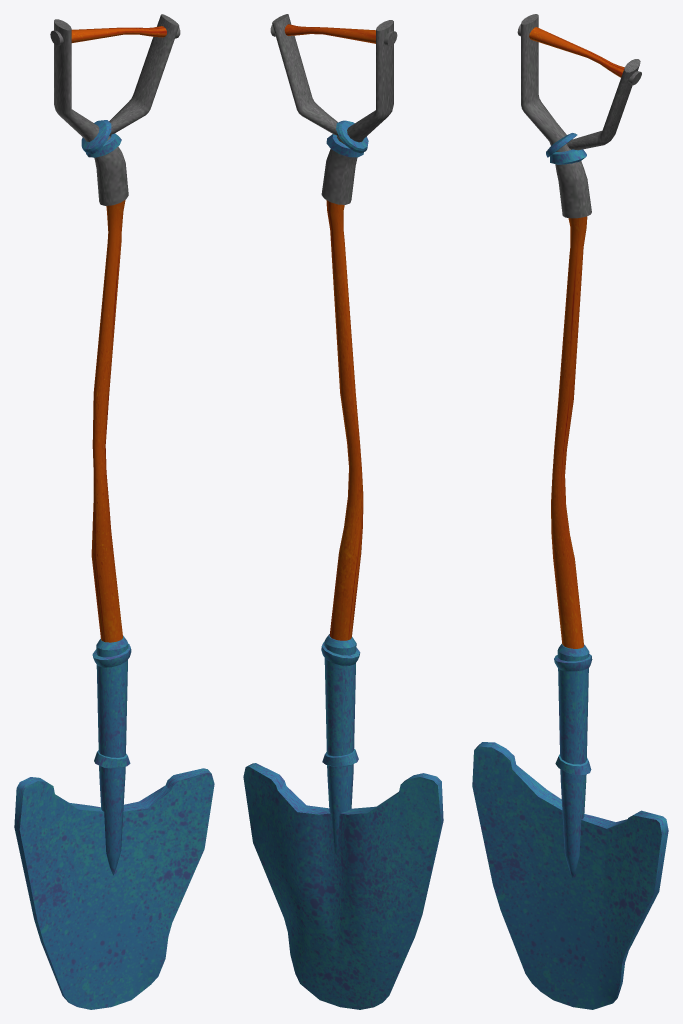
Rendered from shovel.fbx.
3 views of the same model, side by side, from view 1: azimuth 30°, elevation 25°; view 2: azimuth 150°, elevation 25°; view 3: azimuth 330°, elevation 25° (orthographic).
Visible parts, largest first — view 1: Object_3, Object_5, Object_4, Object_2; view 2: Object_3, Object_5, Object_4, Object_2; view 3: Object_3, Object_5, Object_4, Object_2.
Boxes of the visible parts, bbox=[...] form: Object_3: bbox=[14, 635, 214, 1009]; Object_5: bbox=[71, 26, 166, 642]; Object_4: bbox=[50, 14, 180, 205]; Object_2: bbox=[81, 120, 131, 768]; Object_3: bbox=[243, 634, 443, 1009]; Object_5: bbox=[284, 24, 375, 640]; Object_4: bbox=[270, 14, 397, 204]; Object_2: bbox=[321, 120, 368, 766]; Object_3: bbox=[472, 644, 668, 1009]; Object_5: bbox=[529, 27, 624, 648]; Object_4: bbox=[517, 14, 641, 218]; Object_2: bbox=[546, 133, 592, 775].
Bounding box in the file's own units: 28.67 × 138 × 4.7.
8 materials, 8 textured.
